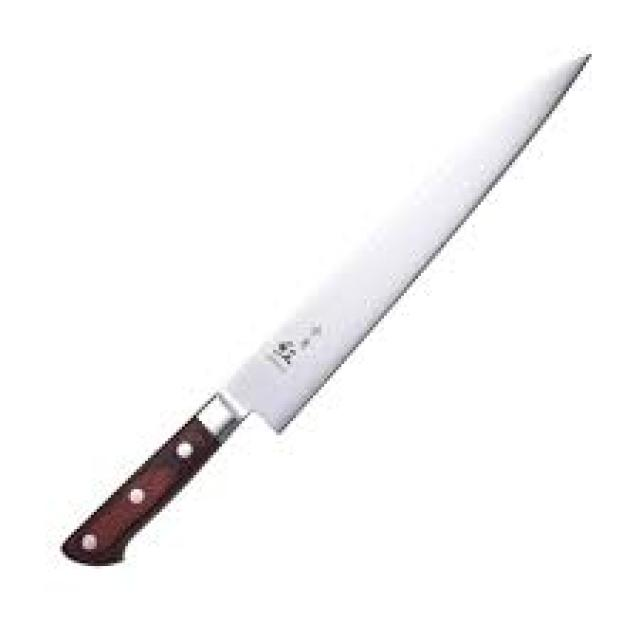Knife: (60, 51, 589, 560)
